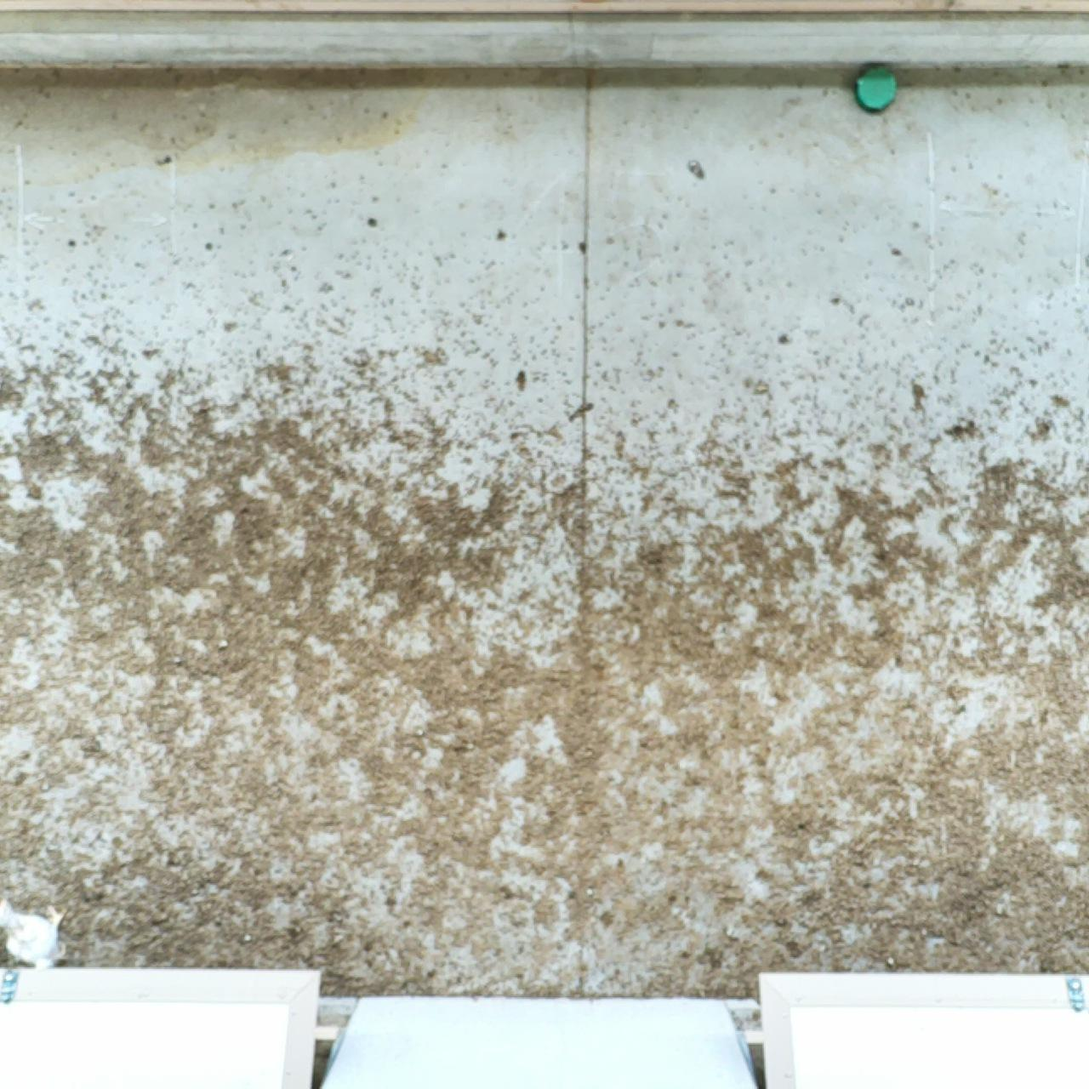chicken: (0, 894, 69, 978)
